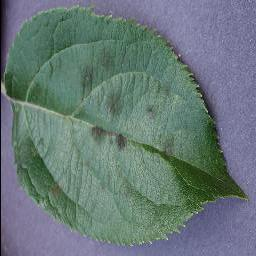apple healthy: (2, 4, 248, 248)
